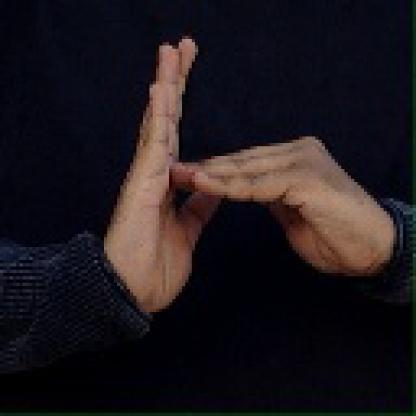Z: (108, 34, 358, 292)
